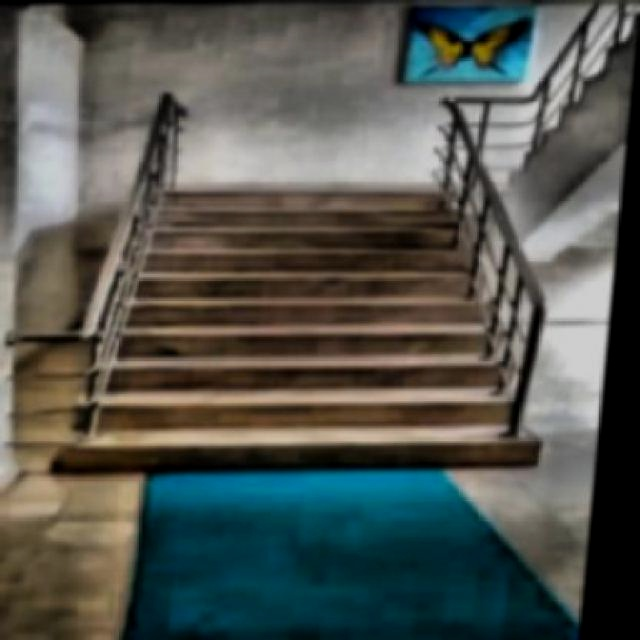stair: (65, 189, 550, 477)
